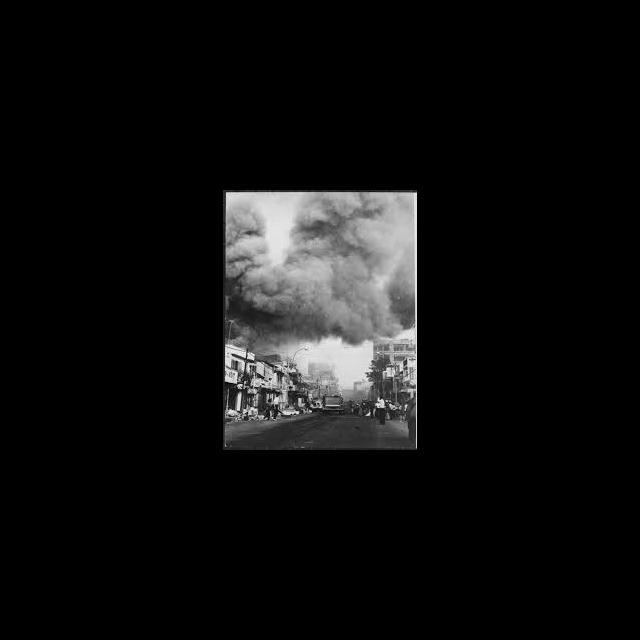Smoke: (227, 195, 412, 338)
